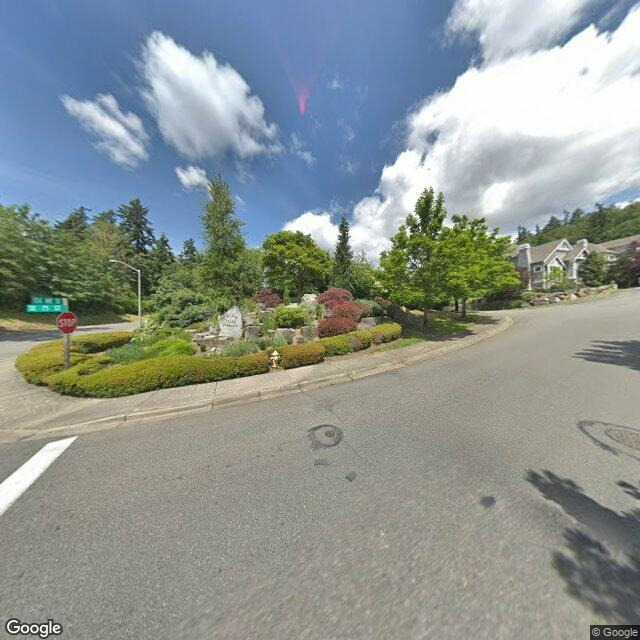hydrant: (269, 346, 280, 371)
